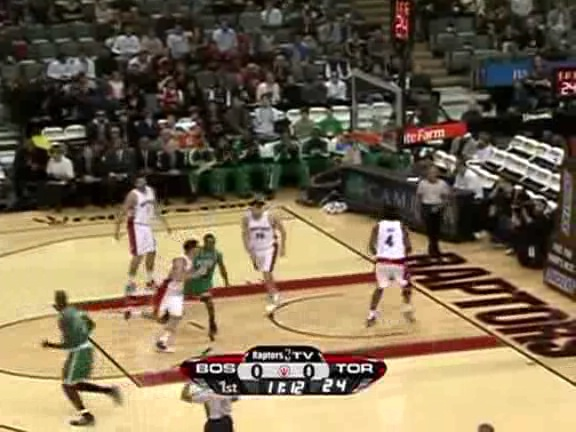person: (186, 232, 220, 313), (185, 232, 219, 313), (187, 232, 221, 313), (186, 231, 220, 312), (186, 233, 220, 314)
target_negative: (293, 44, 533, 418), (71, 255, 378, 376), (100, 358, 567, 401), (305, 219, 483, 319), (496, 135, 568, 293), (462, 411, 499, 421)
